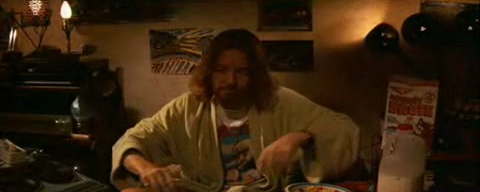face: (213, 54, 251, 107)
mcu: (1, 1, 480, 192)
person: (111, 28, 361, 192)
